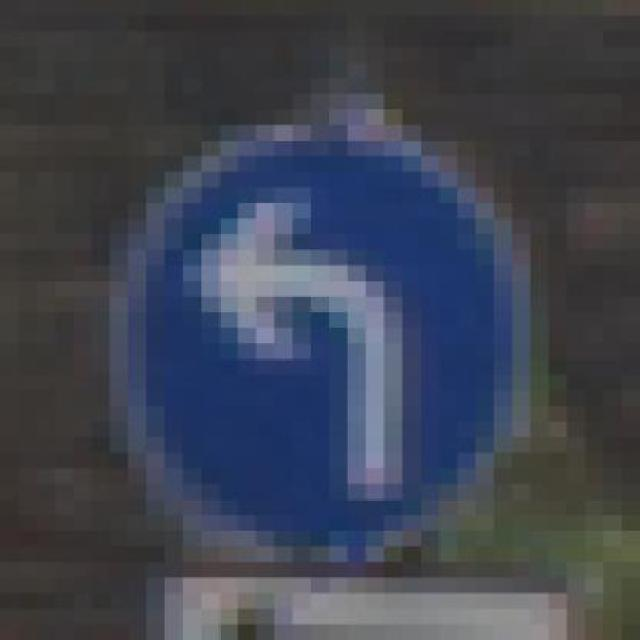Turn left ahead: (110, 78, 548, 562)
